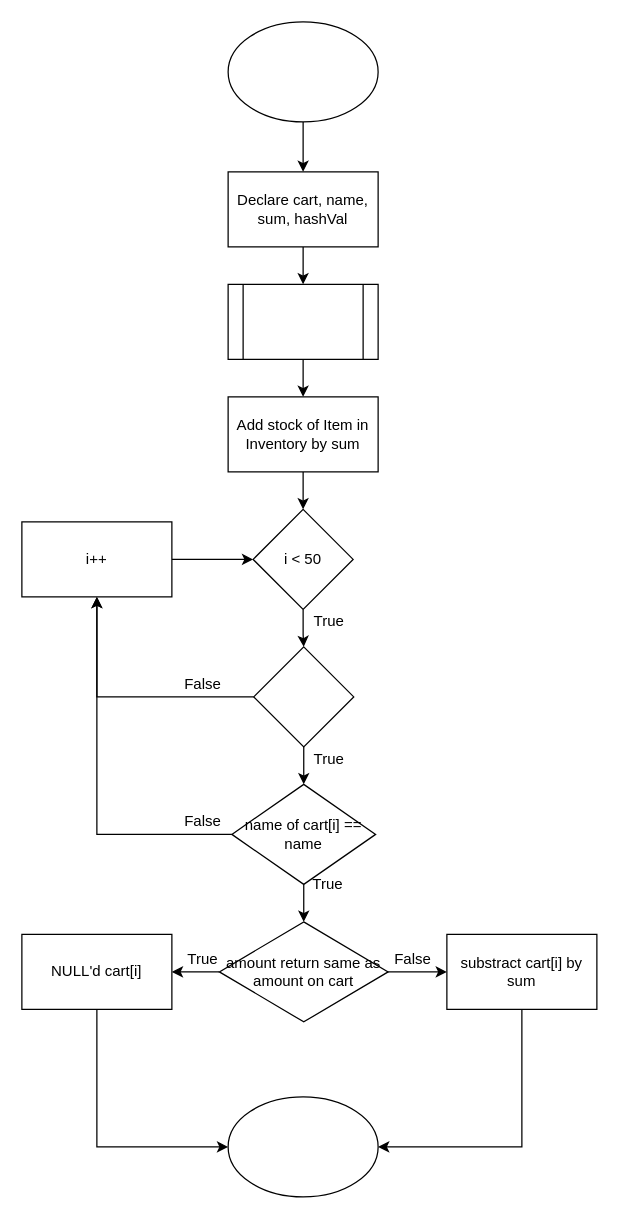
Image size: 619x1219. Some labels were removed from this diagram. Here are the shapes that lost their labels. From the top down, the centre of each, then its label:
point 302,71: Return Item
point 302,321: hashVal = generateHash
point 303,696: cart[i] exists
point 302,1146: Return
